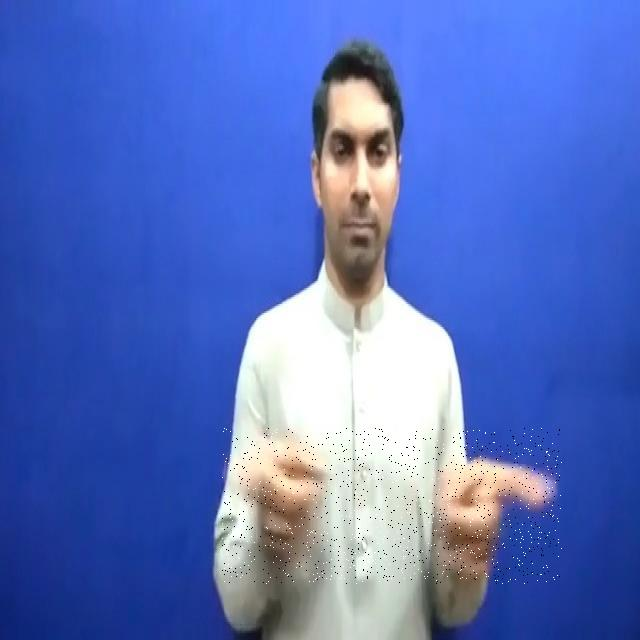sweet: (222, 428, 562, 584)
